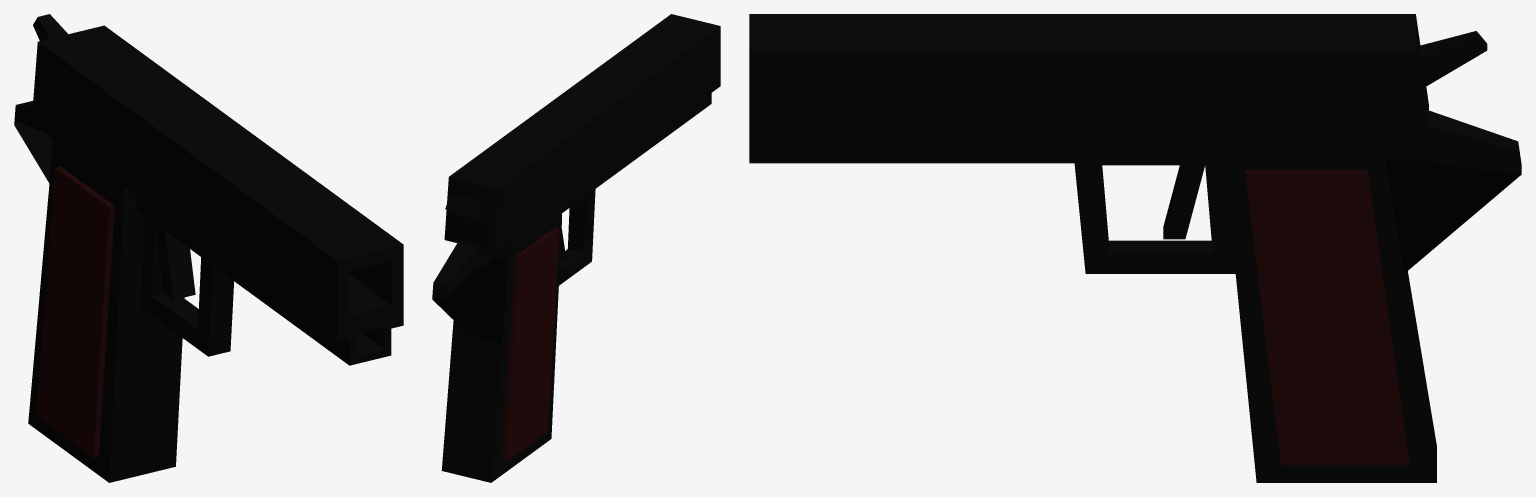
The model's file is gun.obj.
3 views of the same model, side by side, from view 1: azimuth 30°, elevation 25°; view 2: azimuth 150°, elevation 25°; view 3: azimuth 270°, elevation 25° (orthographic). The views are drawn at different scales.
Parts seen in each view (by area): view 1: Cube; view 2: Cube; view 3: Cube.
Boxes of the visible parts, x1,y1,x2,y2 form: Cube: [14, 14, 403, 482]; Cube: [432, 14, 720, 482]; Cube: [749, 14, 1521, 482].
Bounding box in the file's own units: 0.081 × 0.3873 × 0.6264.
